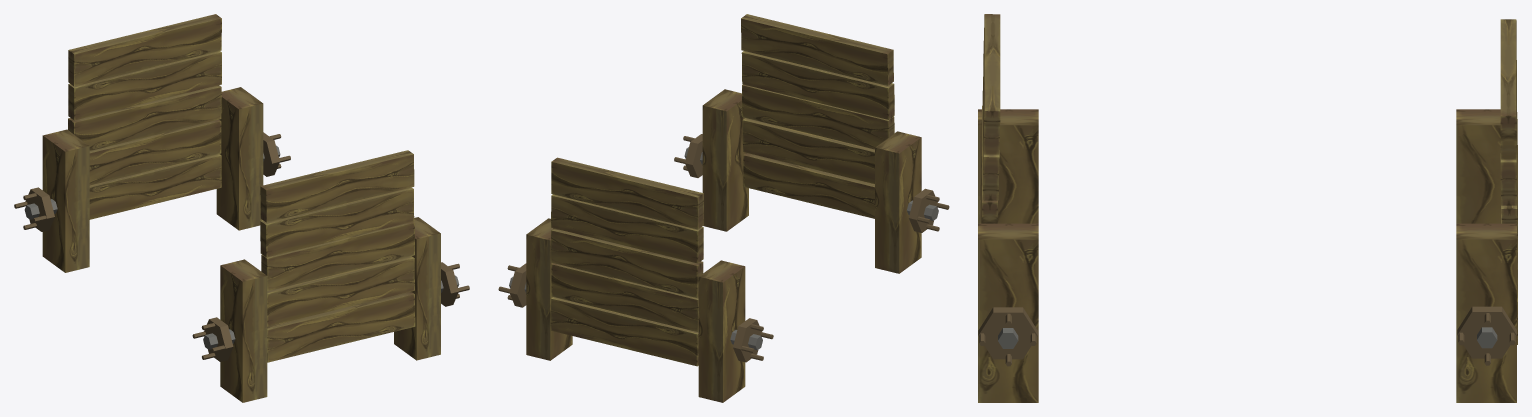
Rendered from Dingsbrücke1.fbx.
The picture shows the model from 3 angles, left to right: view 1: azimuth 30°, elevation 25°; view 2: azimuth 150°, elevation 25°; view 3: azimuth 270°, elevation 25°; orthographic projection. The views are drawn at different scales.
Parts seen in each view (by area): view 1: Cube.025, Cube.024, Cube.002, Cube.005, Cube.001, Cube.004, Cylinder.013, Cylinder.010, Cylinder.021, Cylinder.005; view 2: Cube.024, Cube.025, Cube.002, Cube.005, Cube.004, Cube.001, Cylinder.013, Cylinder.010, Cylinder.021, Cylinder.005; view 3: Cube.001, Cube.004, Cube.002, Cube.005, Cube.025, Cube.024, Cylinder.005, Cylinder.021.
Part boxes in pixels (<box>): Cube.025: <box>260,150,415,362</box>; Cube.024: <box>68,14,221,219</box>; Cube.002: <box>42,129,89,272</box>; Cube.005: <box>220,259,267,402</box>; Cube.001: <box>216,87,263,230</box>; Cube.004: <box>394,217,440,360</box>; Cylinder.013: <box>14,187,57,231</box>; Cylinder.010: <box>192,317,235,361</box>; Cylinder.021: <box>441,262,469,306</box>; Cylinder.005: <box>263,132,290,176</box>; Cube.024: <box>550,157,703,366</box>; Cube.025: <box>741,14,894,218</box>; Cube.002: <box>698,260,745,402</box>; Cube.005: <box>875,131,921,273</box>; Cube.004: <box>702,89,748,231</box>; Cube.001: <box>526,218,572,360</box>; Cylinder.013: <box>730,318,773,362</box>; Cylinder.010: <box>907,188,949,232</box>; Cylinder.021: <box>674,134,702,177</box>; Cylinder.005: <box>498,263,526,307</box>; Cube.001: <box>1456,223,1516,402</box>; Cube.004: <box>978,223,1038,402</box>; Cube.002: <box>1456,109,1500,223</box>; Cube.005: <box>978,109,1038,223</box>; Cube.025: <box>979,14,1000,223</box>; Cube.024: <box>1500,19,1517,344</box>; Cylinder.005: <box>1457,306,1516,365</box>; Cylinder.021: <box>978,307,1037,366</box>.
Bounding box in the file's own units: 500 × 381 × 676.
